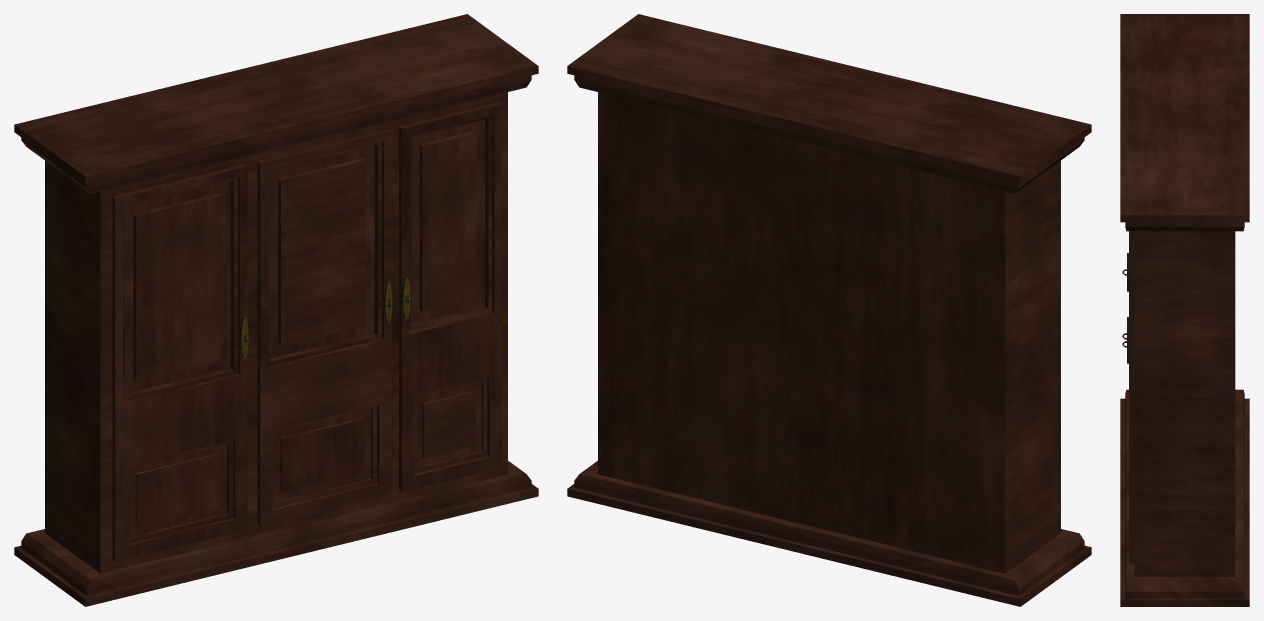
Rendered from wardrobe.glb.
The picture shows the model from 3 angles, left to right: view 1: azimuth 30°, elevation 25°; view 2: azimuth 150°, elevation 25°; view 3: azimuth 270°, elevation 25°; orthographic projection. The views are drawn at different scales.
Parts seen in each view (by area): view 1: Cube.001, Cube.022; view 2: Cube.001; view 3: Cube.001, Cube.022.
Part boxes in pixels (<box>): Cube.001: <box>14,14,538,606</box>; Cube.022: <box>240,277,410,358</box>; Cube.001: <box>567,14,1091,606</box>; Cube.001: <box>1120,14,1249,606</box>; Cube.022: <box>1122,253,1128,363</box>.
Bounding box in the file's own units: 2 × 1.81 × 0.5438.
2 materials, 2 textured.
